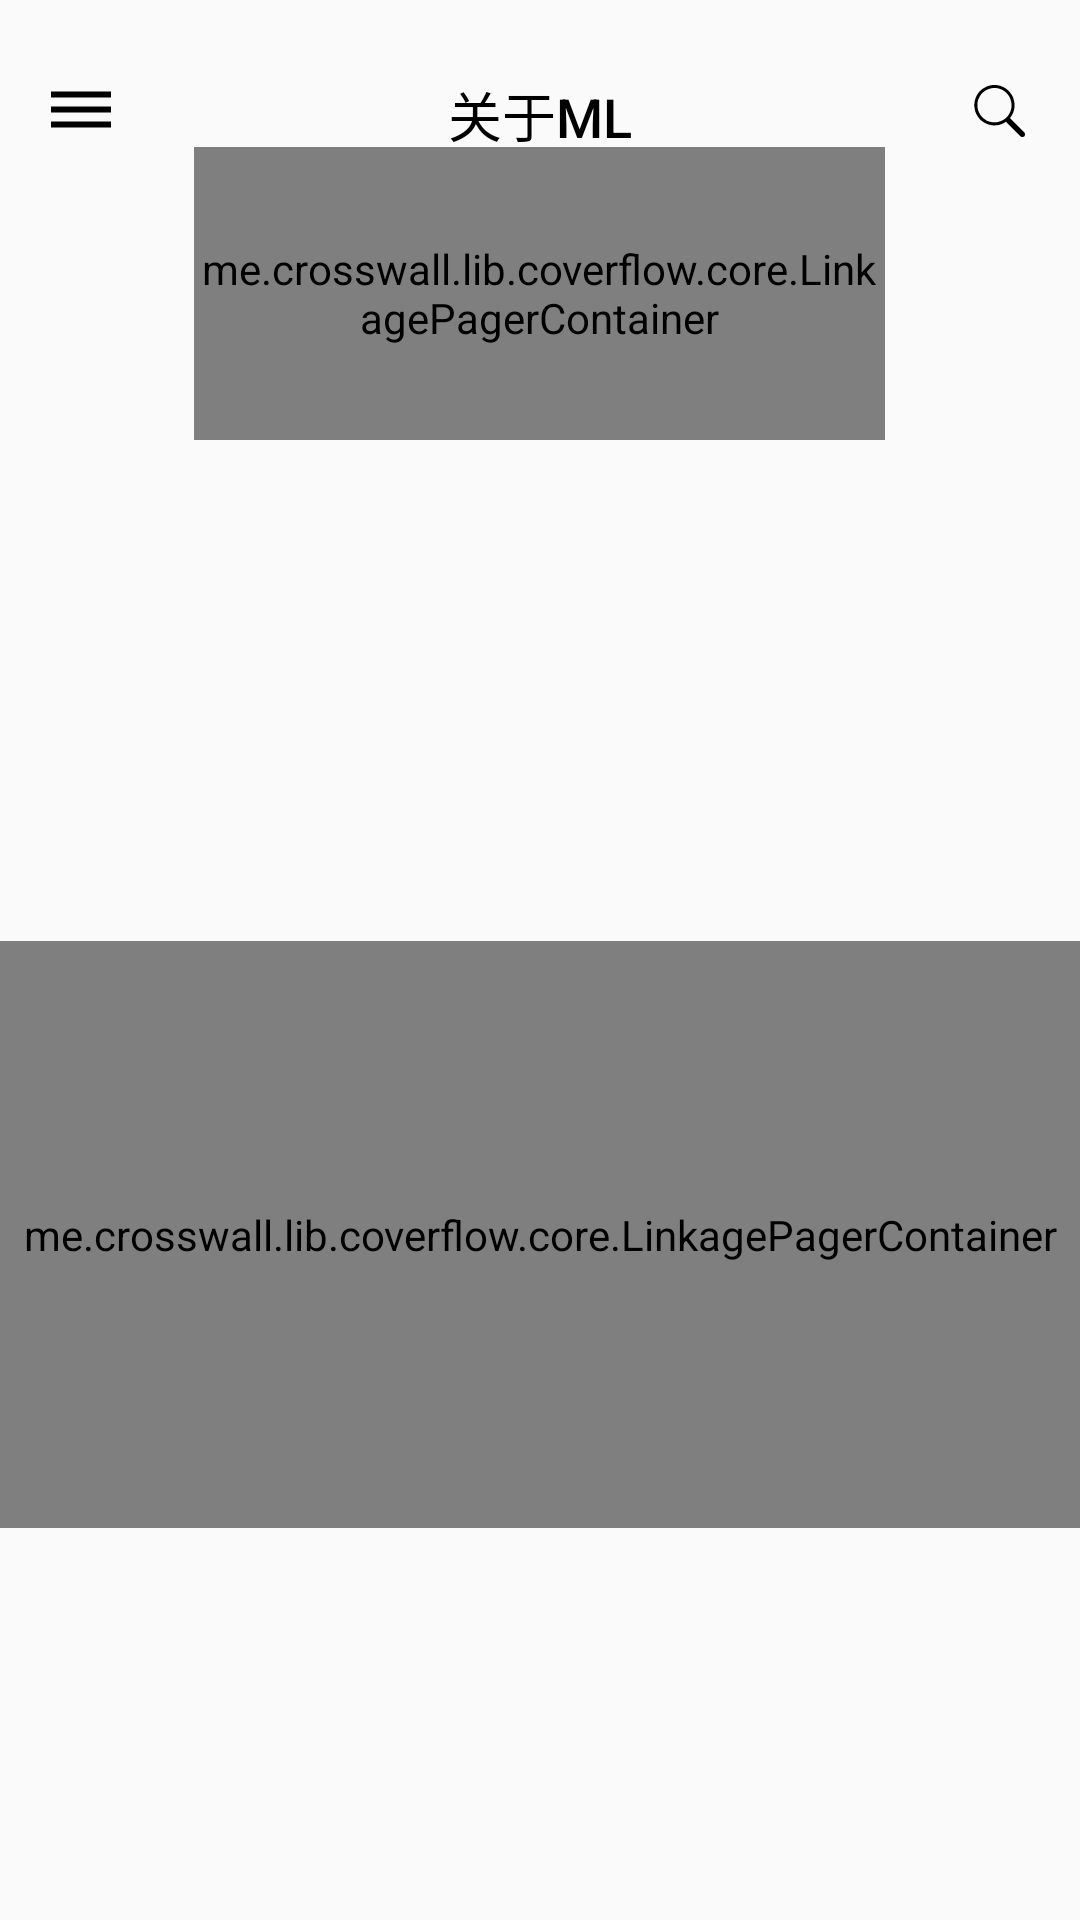

Named icons in this screenshot (1080 x 1920) and their centers, [x,y]:
menu: [81,109]
search: [999,111]
